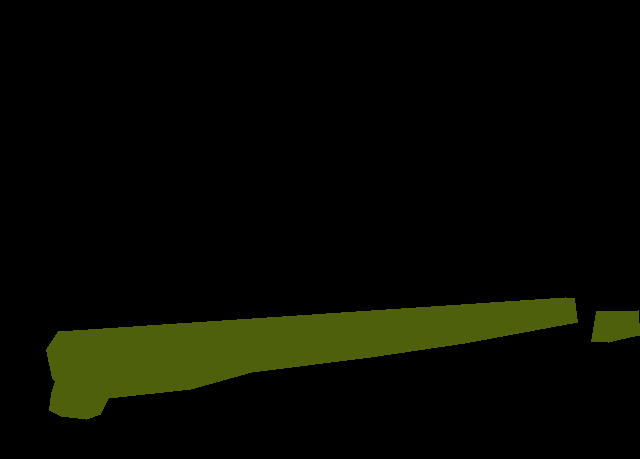Train: (46, 297, 578, 420), (591, 310, 640, 342)
